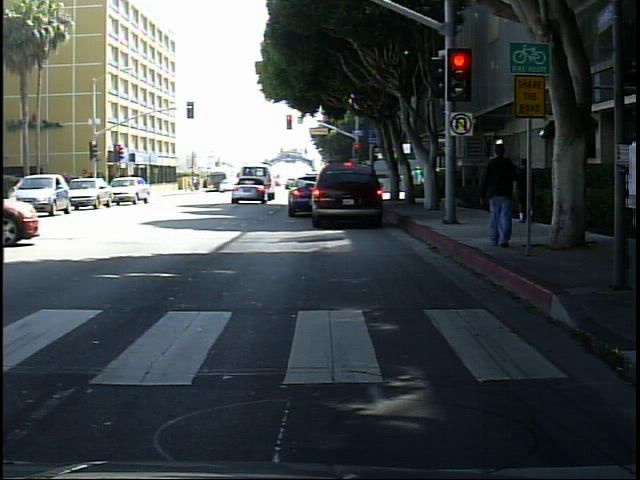person: (477, 129, 523, 257), (517, 147, 542, 232)
